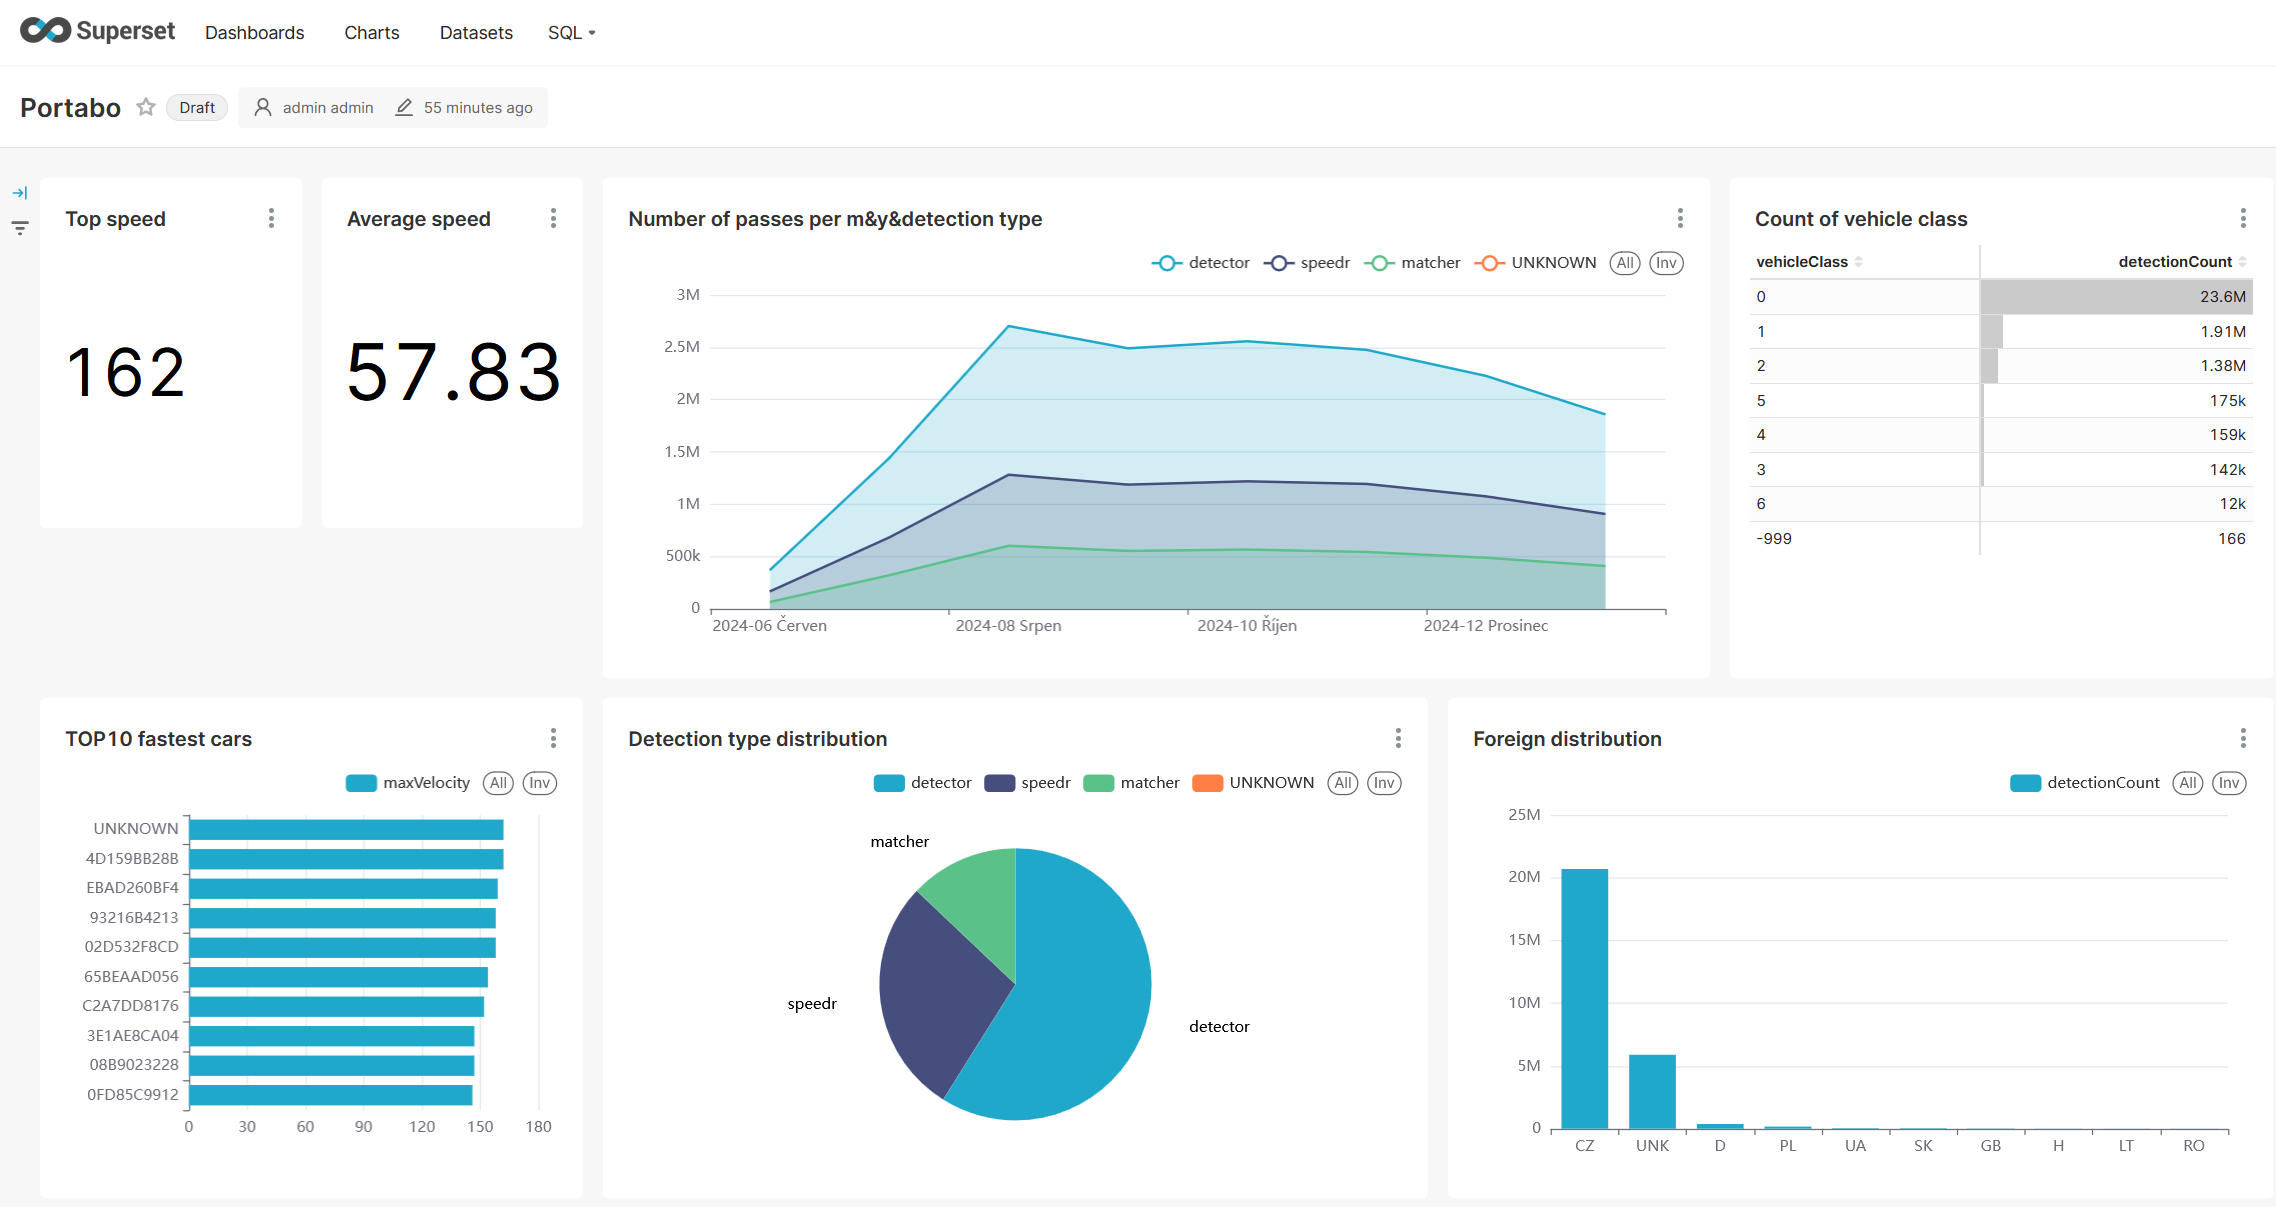

What the dashboard file says about the page in this screenshot:
{"tool":"powerbi","page":{"name":"Bílina kamera","canvas":[1280,720],"ordinal":0},"visuals":[{"type":"clusteredBarChart","title":"TOP10 fastest cars","fields":{"Category":["DimLP.LicensePlate"],"Y":["FactCameraDetection.Maximum of Velocity"]},"box":[14,200,328,500],"z":0},{"type":"textbox","box":[7,0,387,76],"z":1000},{"type":"pieChart","title":"Detection type distribution","fields":{"Y":["FactCameraDetection.Count of Velocity"],"Category":["DimDetectionType.DetectionType"]},"box":[360,407,507,311],"z":2000},{"type":"stackedAreaChart","title":"Number of passes per m&y&detection type","fields":{"Category":["DimTime.MonthYear"],"Y":["FactCameraDetection.Count of Velocity"],"Series":["DimDetectionType.DetectionType"]},"box":[360,89,631,302],"z":3000},{"type":"card","title":"Average speed","fields":{"Values":["FactCameraDetection.Average of Velocity"]},"box":[18.6,89.4,137,97],"z":4000},{"type":"card","title":"Top speed","fields":{"Values":["FactCameraDetection.Maximum of Velocity"]},"box":[156.6,89.4,158,97],"z":5000},{"type":"clusteredColumnChart","title":"Foreign distribution","fields":{"Category":["DimCountry.CountryCode"],"Y":["FactCameraDetection.Count of Velocity"]},"box":[892,407,374,311],"z":6000},{"type":"slicer","fields":{"Values":["DimTime.Date hierarchy.FullDate"]},"box":[771,7,241,46],"z":7000},{"type":"textbox","box":[691,16,116,34],"z":8000},{"type":"tableEx","title":"Count of vehicle class","fields":{"Values":["DimVehicleClass.VehicleClass","FactCameraDetection.Count of Velocity"]},"box":[1029,96,211,287],"z":9000}]}

Visuals, with their boxes on the page's 1280x720 design canvas (x1, y1, x2, y2). These are canvas units, not pixel positions in the 2276x1207 screenshot, which may show the page scaled, cropped or inside an application window:
"TOP10 fastest cars" clusteredBarChart: x1=14 y1=200 x2=342 y2=700
textbox: x1=7 y1=0 x2=394 y2=76
"Detection type distribution" pieChart: x1=360 y1=407 x2=867 y2=718
"Number of passes per m&y&detection type" stackedAreaChart: x1=360 y1=89 x2=991 y2=391
"Average speed" card: x1=19 y1=89 x2=156 y2=186
"Top speed" card: x1=157 y1=89 x2=315 y2=186
"Foreign distribution" clusteredColumnChart: x1=892 y1=407 x2=1266 y2=718
slicer - DimTime.Date hierarchy.FullDate: x1=771 y1=7 x2=1012 y2=53
textbox: x1=691 y1=16 x2=807 y2=50
"Count of vehicle class" tableEx: x1=1029 y1=96 x2=1240 y2=383
